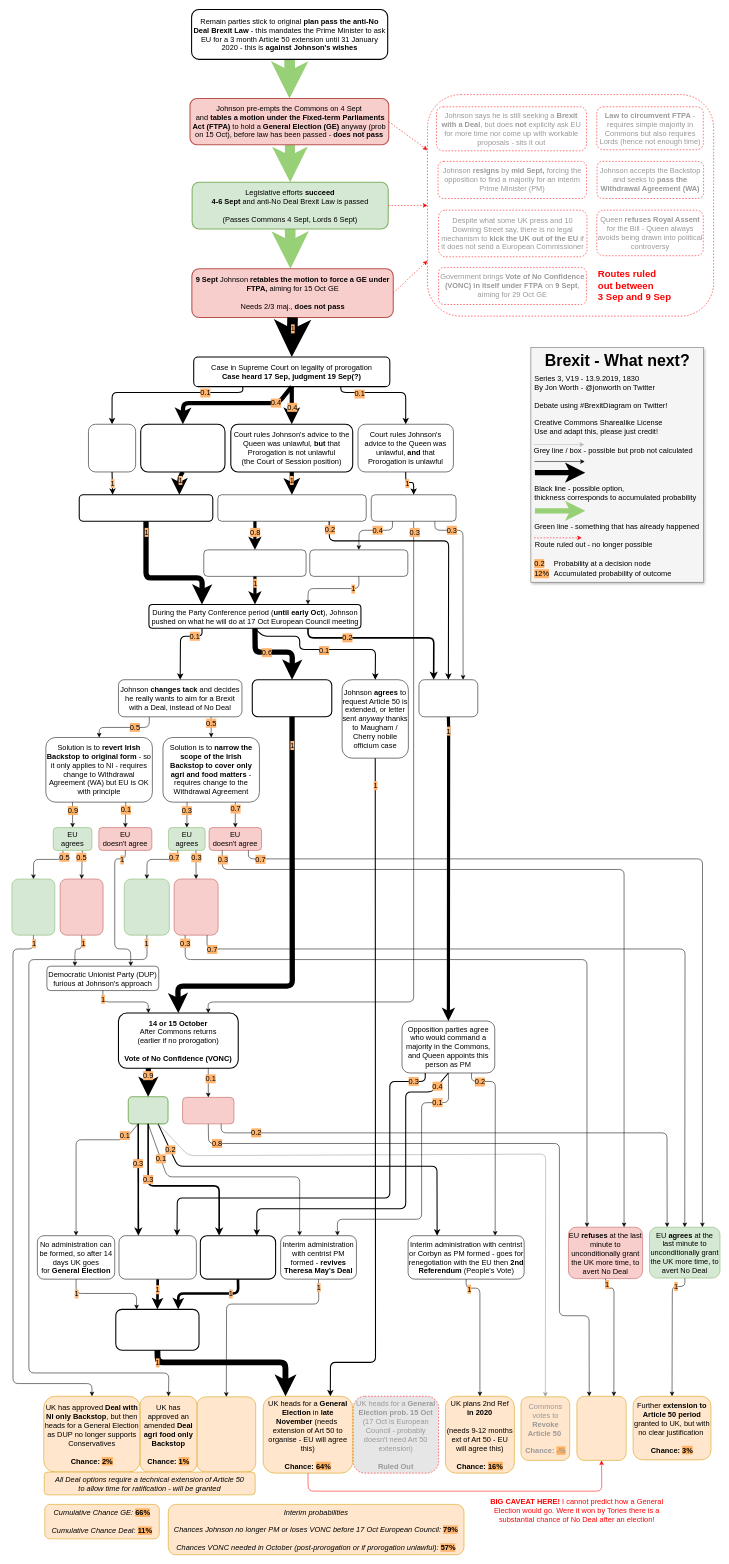
This 729x1564 diagram has some shape labels left out. Here are the shapes that lost their labels. From the top down, the centre of each, then its label:
(x=112, y=448): Court rules that prorogation is lawful
(x=182, y=447): Court rules that the matter is not justiciable (the High Court position)
(x=145, y=508): Everything continues as Johnson had expected - prorogation until 14 Oct
(x=291, y=507): Parliament does not resume , but Johnson found to have acted unlawfully
(x=413, y=507): Parliament resumes (presumably w/c 23 Sep)
(x=254, y=562): Johnson makes an apology to the Queen , but survives
(x=358, y=562): No agreement about what to do , so Johnson survives
(x=291, y=698): Johnson continues to refuse to request Article 50 is extended
(x=448, y=698): Johnson resigns prior to 14 Oct
(x=33, y=906): Commons votes in favour of Deal with original backstop
(x=81, y=906): Commons votes against Deal with original backstop
(x=146, y=906): Commons votes in favour of Deal with agrifood backstop
(x=196, y=906): Commons votes against Deal with agrifood backstop
(x=147, y=1110): VONC passes
(x=208, y=1110): VONC doesn't pass
(x=157, y=1257): Interim administration with Corbyn as PM formed - goes for General Election
(x=238, y=1257): Interim administration with centrist PM formed - goes for General Election
(x=157, y=1329): Might need emergency demand to EU to extend before 31 Oct - will be granted
(x=226, y=1434): Brexit with a Deal happens legally but after 31 Oct 2019 Chance: 8%
(x=601, y=1428): No Deal Brexit looms on 31 October 2019 Chance: 6%
